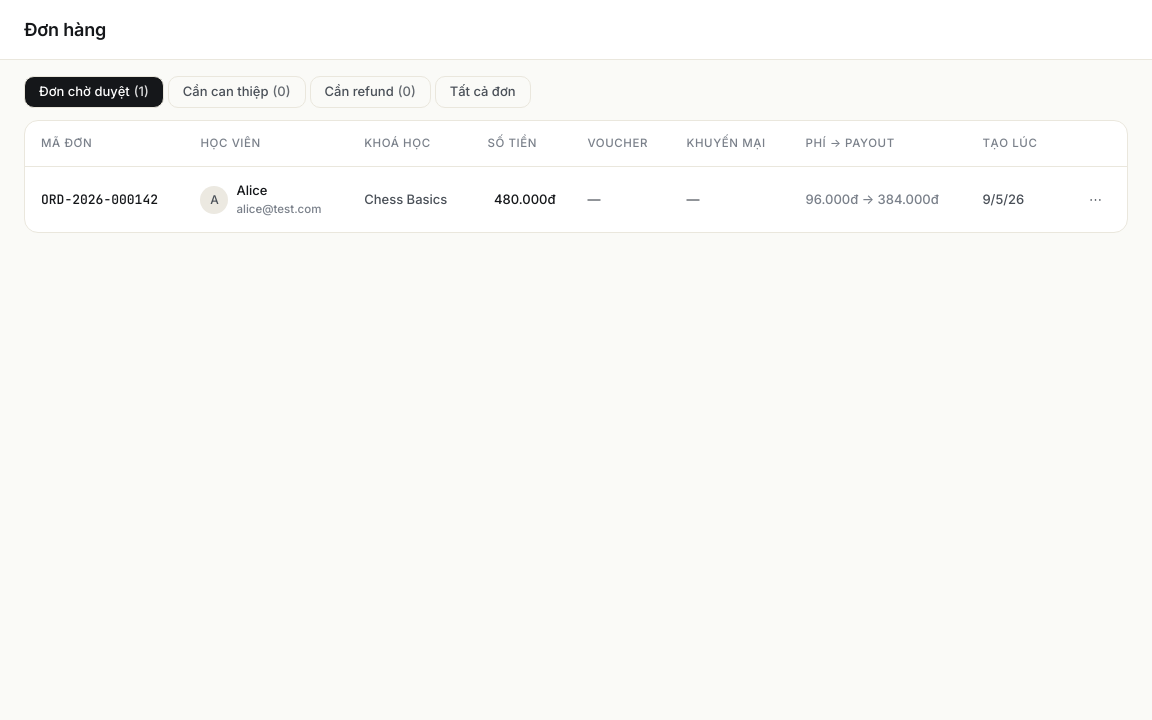
Test case: AdminOrdersPage › cancel dialog › opens dialog from kebab menu and requires non-empty reason
Click the button with test id "kebab-btn-ord-1" at (1096, 200), box [1080, 187, 1111, 213]
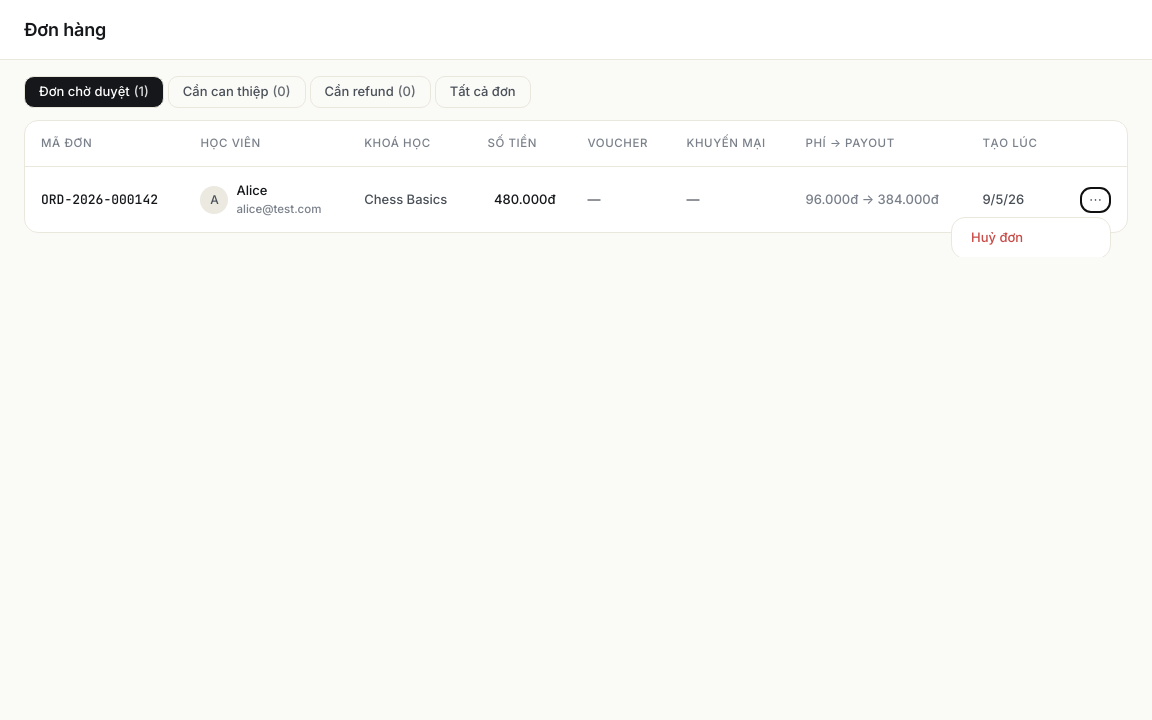
Click the menu item with test id "cancel-menu-item-ord-1" at (1031, 238), box [956, 222, 1106, 254]
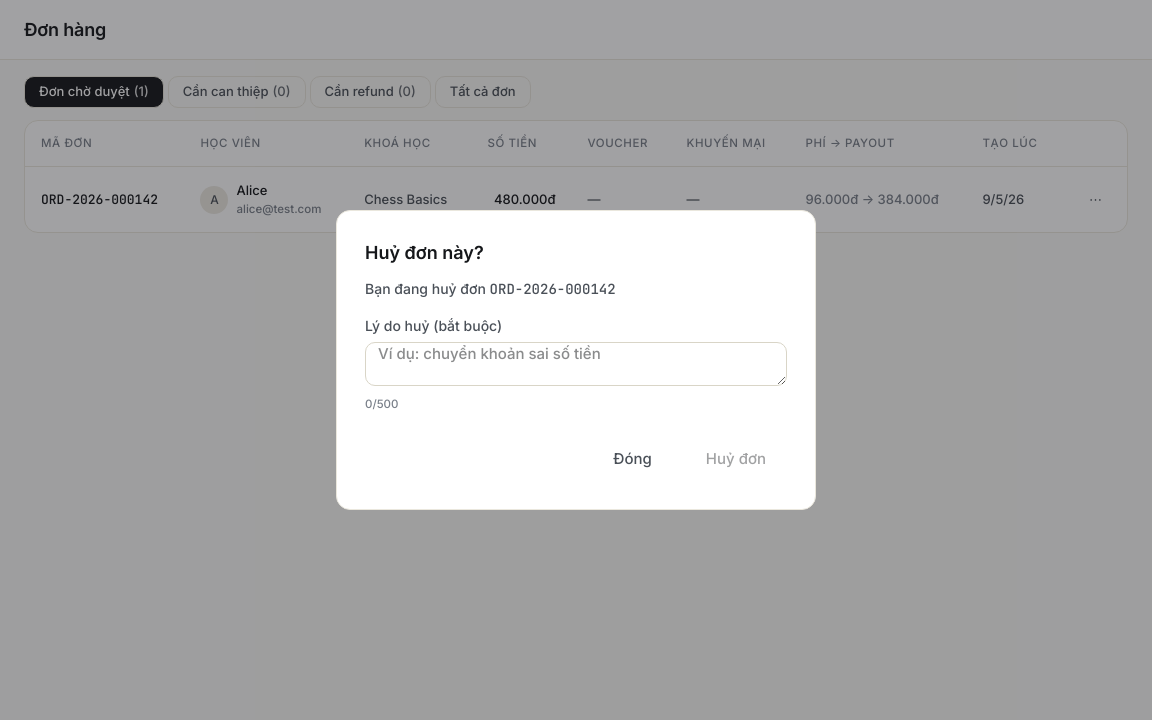
Expected: the button with test id "cancel-dialog-confirm" is disabled, [685, 437, 787, 481]
Type "Wrong amount transferred" into the text box with test id "cancel-reason-textarea" at (576, 364), box [365, 342, 787, 386]
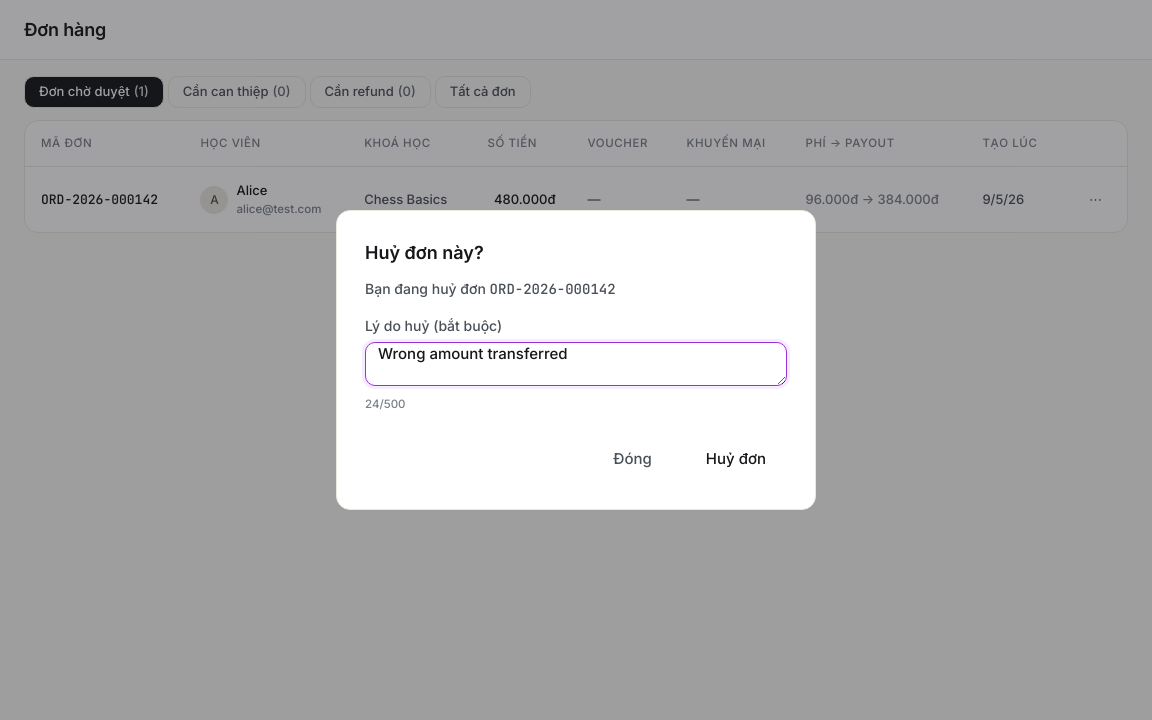
Expected: the button with test id "cancel-dialog-confirm" is enabled, [685, 437, 787, 481]
